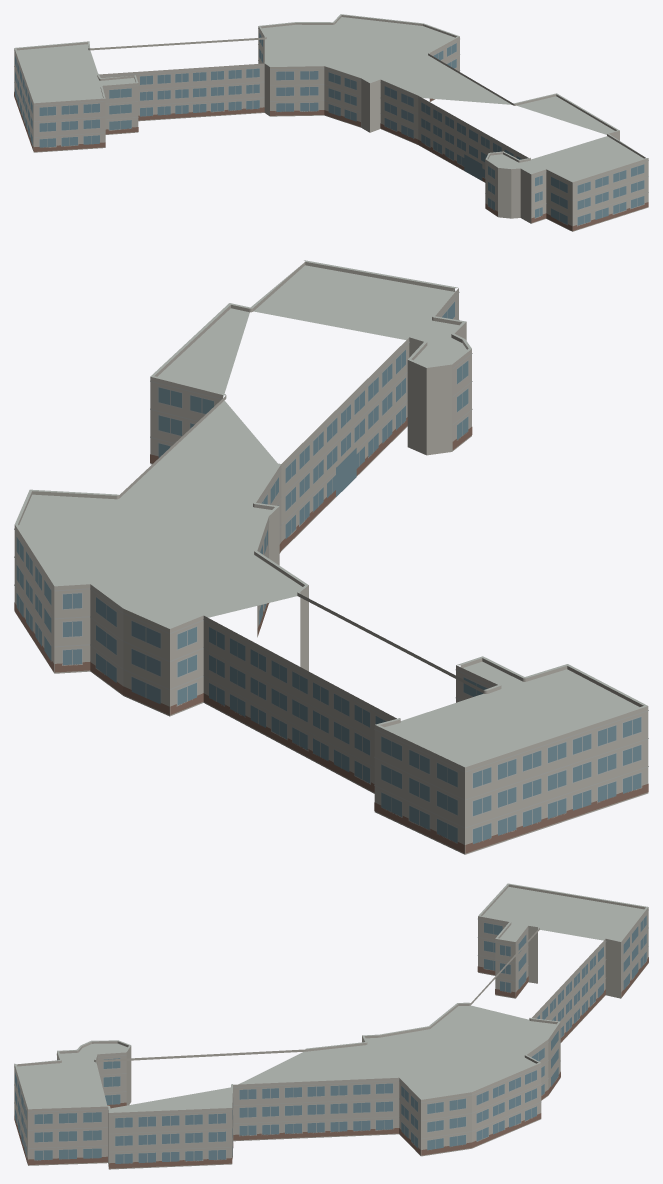
Rendered from public-774a0aad-045d-43e1-b312-c978609d4113.glb.
3 renders of one model, top to bottom at view 1: azimuth 30°, elevation 25°; view 2: azimuth 150°, elevation 25°; view 3: azimuth 270°, elevation 25°, orthographic. The views are drawn at different scales.
Parts seen in each view (by area): view 1: public-774a0aad-045d-43e1-b312-c978609d4113; view 2: public-774a0aad-045d-43e1-b312-c978609d4113; view 3: public-774a0aad-045d-43e1-b312-c978609d4113.
Part boxes in pixels (box(x1,y1,x2,y2)): public-774a0aad-045d-43e1-b312-c978609d4113: box(14, 14, 648, 231); public-774a0aad-045d-43e1-b312-c978609d4113: box(14, 260, 648, 854); public-774a0aad-045d-43e1-b312-c978609d4113: box(14, 883, 648, 1169).
Bounding box in the file's own units: 79.79 × 9.15 × 93.1.
